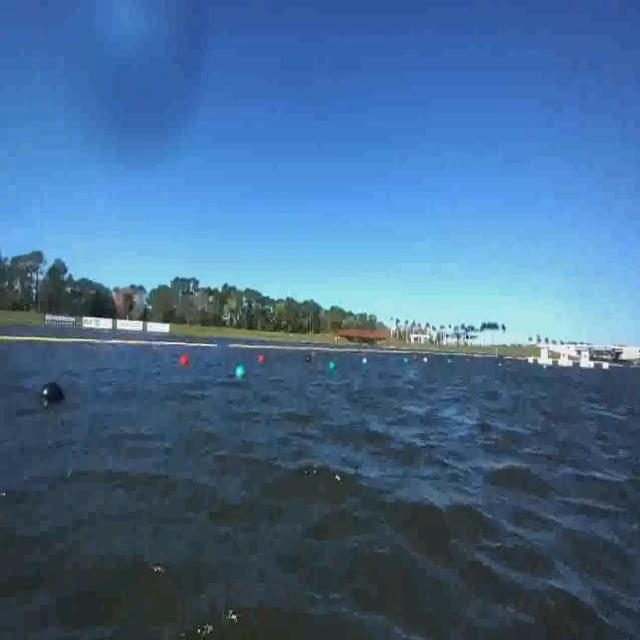black-buoy: (38, 381, 66, 405)
green-buoy: (236, 362, 246, 378)
red-buoy: (255, 346, 269, 364), (183, 355, 191, 367)
